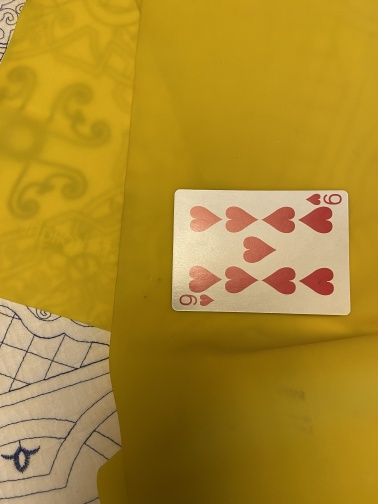nine: (170, 189, 352, 316)
